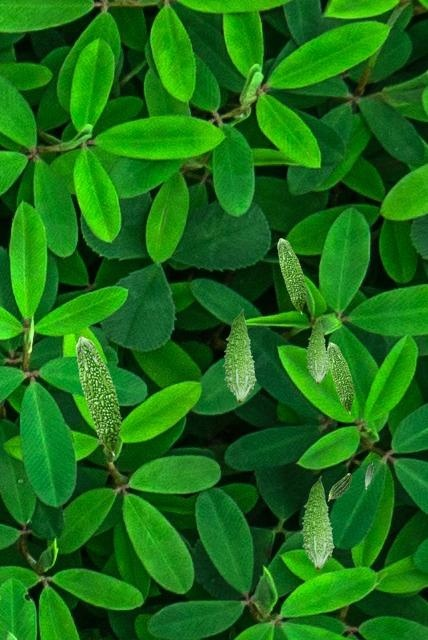ampalaya: (75, 336, 122, 457), (300, 475, 335, 571), (222, 308, 257, 404), (277, 237, 307, 315), (327, 342, 355, 414), (305, 317, 330, 384), (327, 472, 351, 501), (364, 462, 373, 489)
